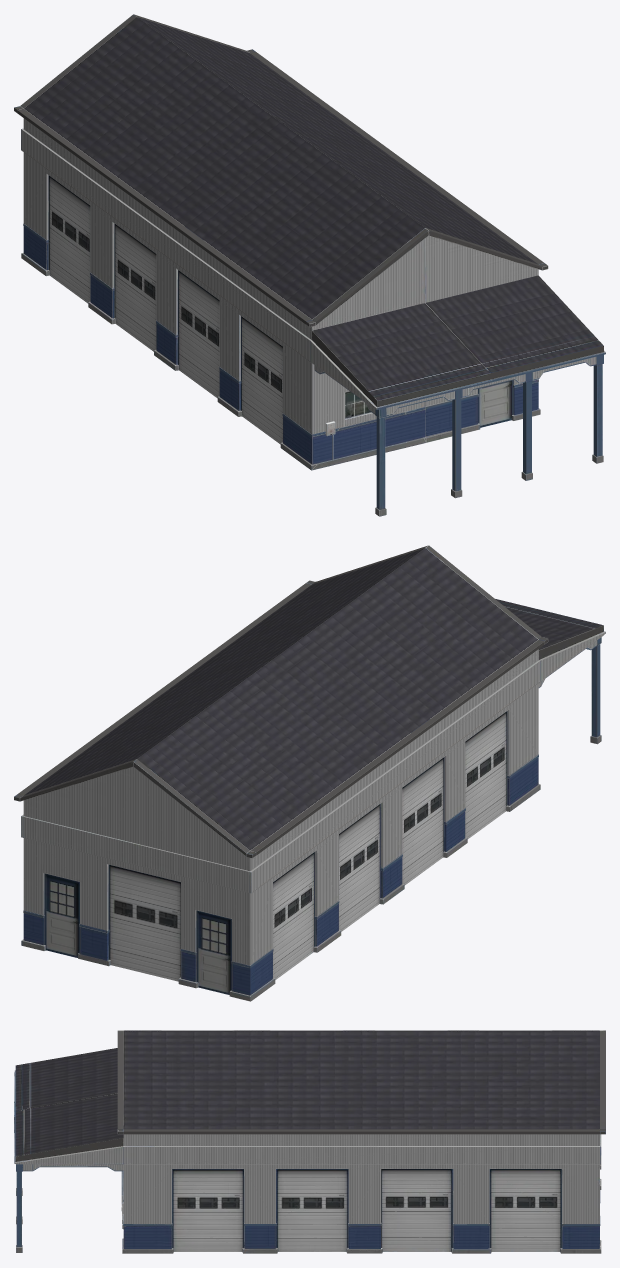
The model's file is warehouse-gable.glb.
3 renders of one model, top to bottom at view 1: azimuth 30°, elevation 25°; view 2: azimuth 150°, elevation 25°; view 3: azimuth 270°, elevation 25°, orthographic. The views are drawn at different scales.
Parts seen in each view (by area): view 1: Cube.001_Industrial_0; view 2: Cube.001_Industrial_0; view 3: Cube.001_Industrial_0.
Boxes of the visible parts, x1=… form: Cube.001_Industrial_0: x1=14, y1=14, x2=605, y2=516; Cube.001_Industrial_0: x1=14, y1=545, x2=605, y2=1001; Cube.001_Industrial_0: x1=14, y1=1030, x2=605, y2=1253.
Size of the model in its own units: 2.8 by 2.4 by 7.28.
1 material, 1 textured.
